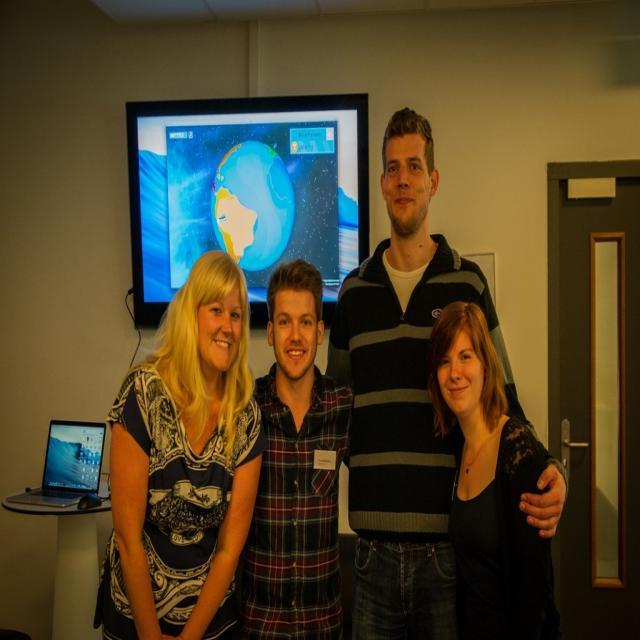others: (9, 94, 565, 640)
